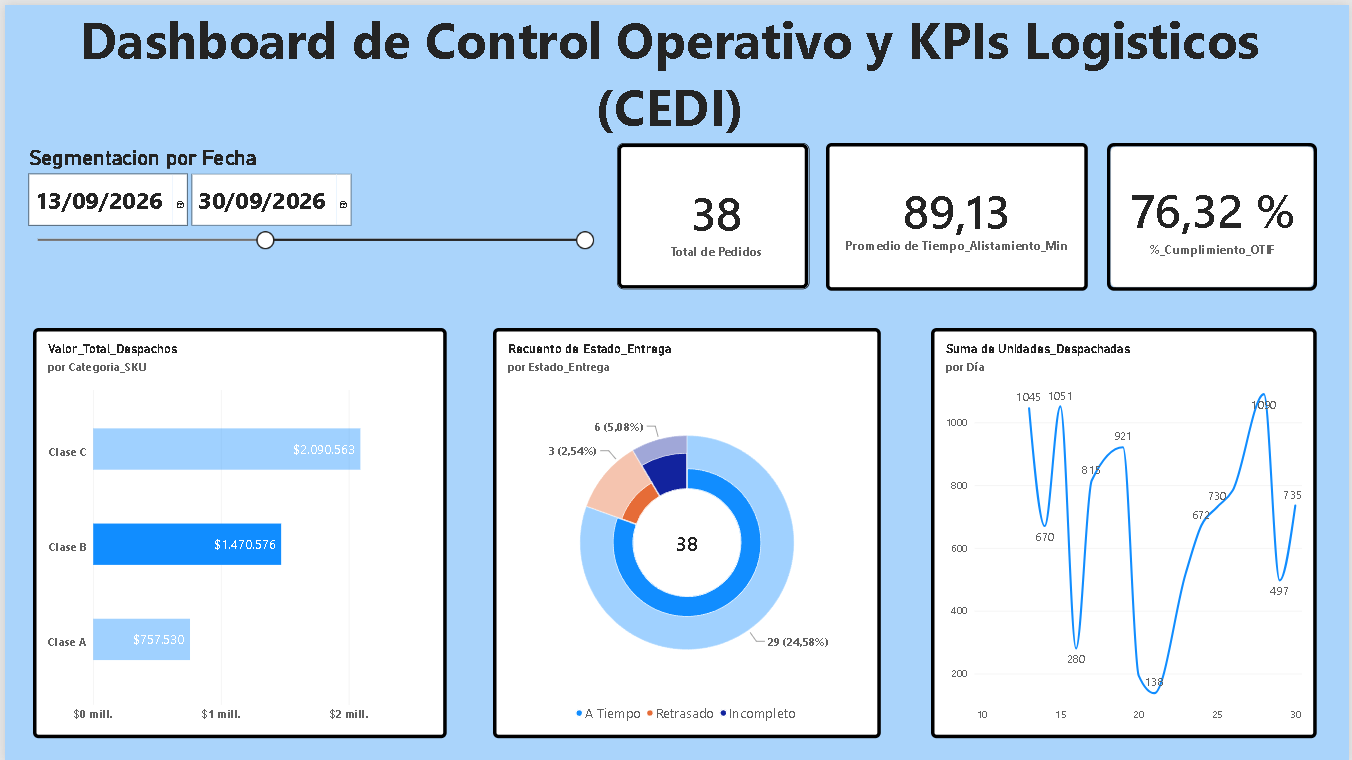

The page's visual inventory and layout, read from the dashboard file:
{"tool":"powerbi","page":{"name":"Página 1","canvas":[1920,1080],"ordinal":0},"visuals":[{"type":"cardVisual","title":"Total de Pedidos","fields":{"Data":["CountNonNull(datos_logistica_cedi.ID_Pedido)"]},"box":[874.3,197.1,274.6,209.1],"z":0},{"type":"cardVisual","fields":{"Data":["datos_logistica_cedi.%_Cumplimiento_OTIF"]},"box":[1574.3,197.1,300,211.4],"z":1},{"type":"card","fields":{"Values":["Avg(datos_logistica_cedi.Tiempo_Alistamiento_Min)"]},"box":[1172.9,197.1,374.3,211.4],"z":2},{"type":"clusteredBarChart","fields":{"Category":["datos_logistica_cedi.Categoria_SKU"],"Y":["datos_logistica_cedi.Valor_Total_Despachos"]},"box":[40,461.4,591.4,585.7],"z":3},{"type":"donutChart","fields":{"Category":["datos_logistica_cedi.Estado_Entrega"],"Y":["CountNonNull(datos_logistica_cedi.Estado_Entrega)"]},"box":[697.1,461.4,554.3,585.7],"z":4},{"type":"lineChart","fields":{"Category":["datos_logistica_cedi.Fecha.Variación.Jerarquía de fechas.Día"],"Y":["Sum(datos_logistica_cedi.Unidades_Despachadas)"]},"box":[1322.9,461.4,551.4,585.7],"z":5},{"type":"textbox","box":[25.7,0,1848.6,200],"z":6},{"type":"slicer","fields":{"Values":["datos_logistica_cedi.Fecha"]},"box":[25.7,200,818.6,261.4],"z":7}]}

Visuals, with their boxes in screenshot pixels (x1, y1, x2, y2), scaled from the page's 1920x1080 canvas onto the 1352x760 screenshot:
"Total de Pedidos" cardVisual: 616/139/809/286
cardVisual - datos_logistica_cedi.%_Cumplimiento_OTIF: 1109/139/1320/287
card - Avg(datos_logistica_cedi.Tiempo_Alistamiento_Min): 826/139/1089/287
clusteredBarChart - datos_logistica_cedi.Categoria_SKU x datos_logistica_cedi.Valor_Total_Despachos: 28/325/445/737
donutChart - datos_logistica_cedi.Estado_Entrega x CountNonNull(datos_logistica_cedi.Estado_Entrega): 491/325/881/737
lineChart - datos_logistica_cedi.Fecha.Variación.Jerarquía de fechas.Día x Sum(datos_logistica_cedi.Unidades_Despachadas): 932/325/1320/737
textbox: 18/0/1320/141
slicer - datos_logistica_cedi.Fecha: 18/141/595/325
